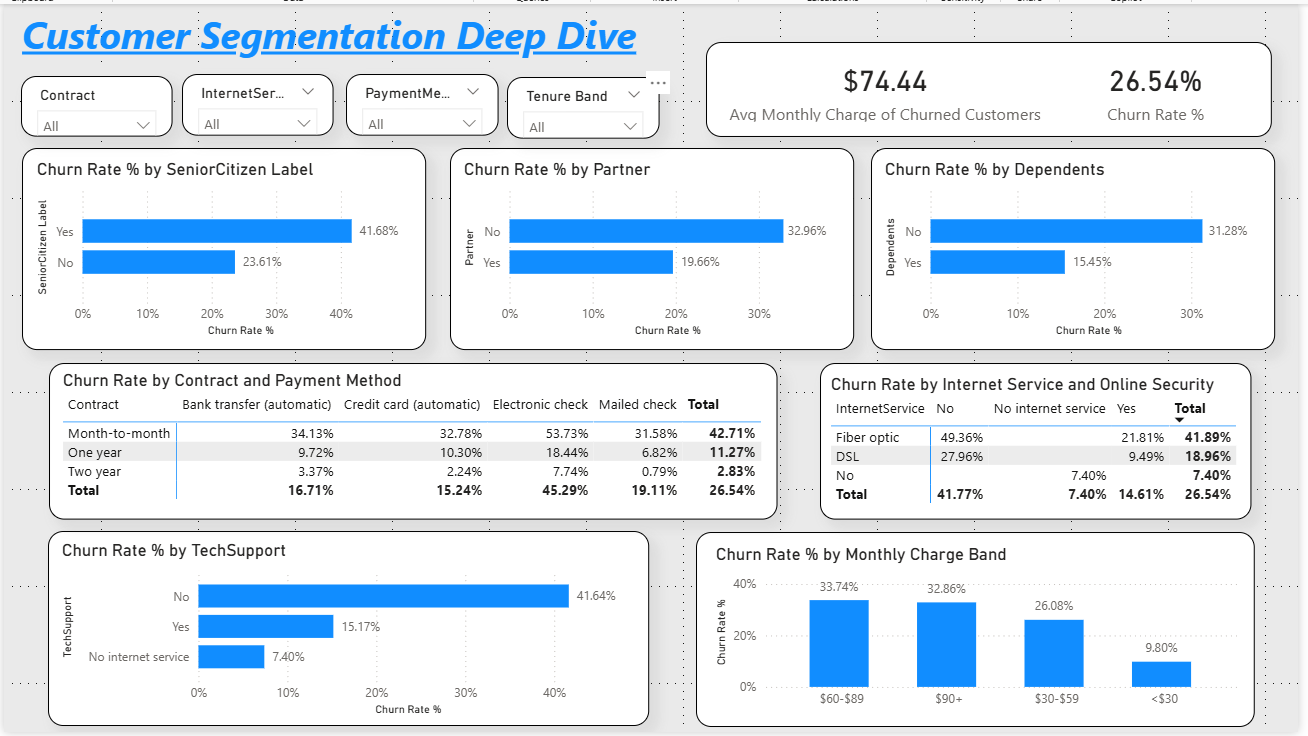

The page's visual inventory and layout, read from the dashboard file:
{"tool":"powerbi","page":{"name":"Customer Segmentation Deep Dive","canvas":[1280,720],"ordinal":1},"visuals":[{"type":"shape","box":[694.9,37.7,560,93.7],"z":0},{"type":"shape","box":[684.6,522.3,553.1,193.1],"z":1000},{"type":"shape","box":[43.4,521.1,595.4,193.1],"z":2000},{"type":"shape","box":[808,355.4,427.4,155.4],"z":3000},{"type":"shape","box":[44.6,355.4,721.1,155.4],"z":4000},{"type":"shape","box":[858.3,142.9,400,200],"z":5000},{"type":"shape","box":[441.1,142.9,400,200],"z":6000},{"type":"shape","box":[18.3,142.9,400,200],"z":7000},{"type":"slicer","fields":{"Values":["Telco.Contract"]},"box":[16.7,71,150,60],"z":8000},{"type":"slicer","fields":{"Values":["Telco.InternetService"]},"box":[176,69.7,149.7,60.6],"z":9000},{"type":"slicer","fields":{"Values":["Telco.PaymentMethod"]},"box":[338.3,69.7,150.9,60.6],"z":10000},{"type":"slicer","fields":{"Values":["Telco.Tenure Band"]},"box":[498.3,72,150.9,60.6],"z":11000},{"type":"pivotTable","title":"Churn Rate by Contract and Payment Method","fields":{"Rows":["Telco.Contract"],"Columns":["Telco.PaymentMethod"],"Values":["Telco.Churn Rate %"]},"box":[53.7,362.3,702.9,141.7],"z":12000},{"type":"card","fields":{"Values":["Telco.Avg Monthly Charge of Churned Customers"]},"box":[712,46.9,321.1,75.4],"z":13000},{"type":"clusteredBarChart","fields":{"Category":["Telco.SeniorCitizen Label"],"Y":["Telco.Churn Rate %"]},"box":[27.4,153.1,380.6,180.6],"z":14000},{"type":"clusteredBarChart","fields":{"Y":["Telco.Churn Rate %"],"Category":["Telco.Partner"]},"box":[450.3,153.1,380.6,180.6],"z":15000},{"type":"clusteredBarChart","fields":{"Y":["Telco.Churn Rate %"],"Category":["Telco.Dependents"]},"box":[867.4,153.1,380.6,180.6],"z":16000},{"type":"pivotTable","title":"Churn Rate by Internet Service and Online Security","fields":{"Rows":["Telco.InternetService"],"Columns":["Telco.OnlineSecurity"],"Values":["Telco.Churn Rate %"]},"box":[813.7,365.7,414.9,138.3],"z":17000},{"type":"clusteredBarChart","fields":{"Category":["Telco.TechSupport"],"Y":["Telco.Churn Rate %"]},"box":[52.6,530.3,572.6,178.3],"z":18000},{"type":"clusteredColumnChart","fields":{"Y":["Telco.Churn Rate %"],"Category":["Telco.Monthly Charge Band"]},"box":[699.4,534.9,528,171.4],"z":19000},{"type":"textbox","box":[12.6,0,648,65.1],"z":20000},{"type":"card","fields":{"Values":["Telco.Churn Rate %"]},"box":[1033.3,46.7,213.3,75.6],"z":21000}]}

Visuals, with their boxes in screenshot pixels (x1, y1, x2, y2):
shape: [left=704, top=41, right=1268, bottom=136]
shape: [left=693, top=530, right=1251, bottom=724]
shape: [left=47, top=529, right=647, bottom=723]
shape: [left=818, top=362, right=1248, bottom=518]
shape: [left=48, top=362, right=775, bottom=518]
shape: [left=868, top=147, right=1271, bottom=349]
shape: [left=448, top=147, right=851, bottom=349]
shape: [left=22, top=147, right=425, bottom=349]
slicer - Telco.Contract: [left=20, top=75, right=171, bottom=135]
slicer - Telco.InternetService: [left=181, top=74, right=332, bottom=135]
slicer - Telco.PaymentMethod: [left=344, top=74, right=496, bottom=135]
slicer - Telco.Tenure Band: [left=506, top=76, right=658, bottom=137]
"Churn Rate by Contract and Payment Method" pivotTable: [left=58, top=369, right=766, bottom=511]
card - Telco.Avg Monthly Charge of Churned Customers: [left=721, top=51, right=1045, bottom=127]
clusteredBarChart - Telco.SeniorCitizen Label x Telco.Churn Rate %: [left=31, top=158, right=415, bottom=340]
clusteredBarChart - Telco.Churn Rate % x Telco.Partner: [left=457, top=158, right=841, bottom=340]
clusteredBarChart - Telco.Churn Rate % x Telco.Dependents: [left=878, top=158, right=1261, bottom=340]
"Churn Rate by Internet Service and Online Security" pivotTable: [left=823, top=372, right=1242, bottom=511]
clusteredBarChart - Telco.TechSupport x Telco.Churn Rate %: [left=56, top=538, right=633, bottom=718]
clusteredColumnChart - Telco.Churn Rate % x Telco.Monthly Charge Band: [left=708, top=542, right=1240, bottom=715]
textbox: [left=16, top=3, right=669, bottom=69]
card - Telco.Churn Rate %: [left=1045, top=50, right=1260, bottom=127]
